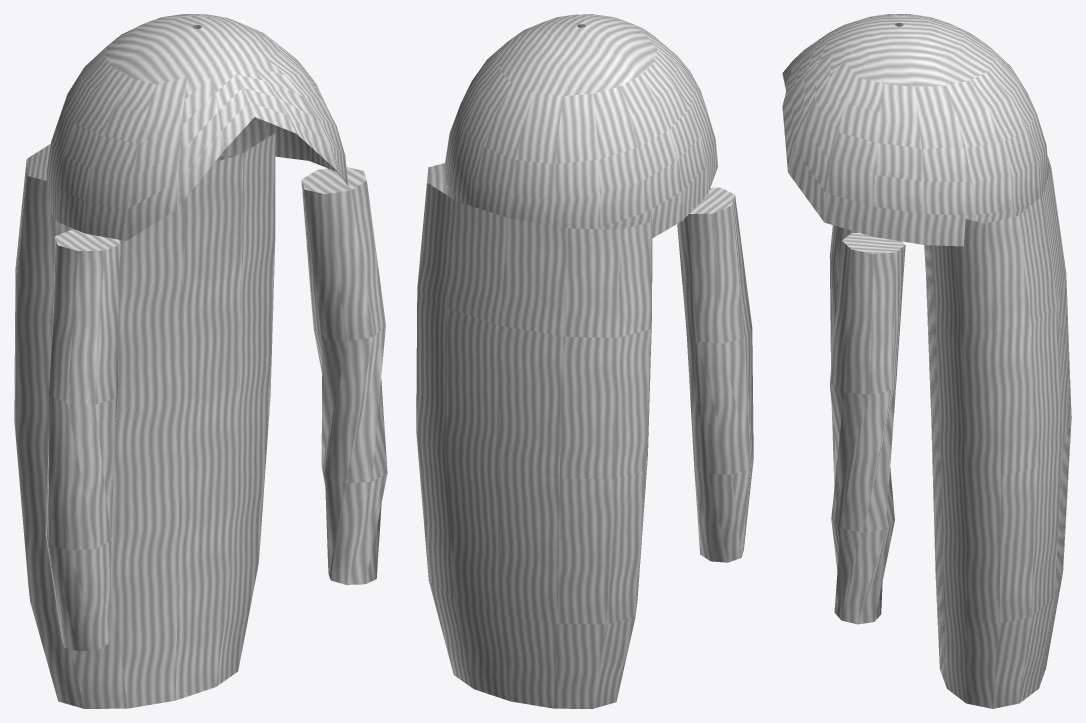
File: hair_long.glb
3 views of the same model, side by side, from view 1: azimuth 30°, elevation 25°; view 2: azimuth 150°, elevation 25°; view 3: azimuth 270°, elevation 25° (orthographic). The views are drawn at different scales.
Visible parts, largest first — view 1: hair_long; view 2: hair_long; view 3: hair_long.
Boxes of the visible parts, bbox=[...] form: hair_long: bbox=[14, 14, 387, 708]; hair_long: bbox=[416, 14, 753, 708]; hair_long: bbox=[782, 14, 1071, 708].
Size of the model in its own units: 0.34 by 0.6679 by 0.2719.
Materials: 1 (1 with a texture image).
